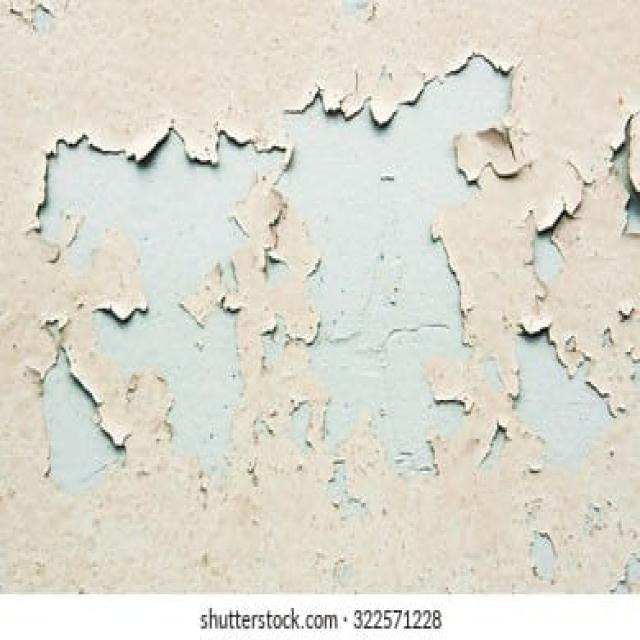Paint peeling: (26, 51, 639, 507)
